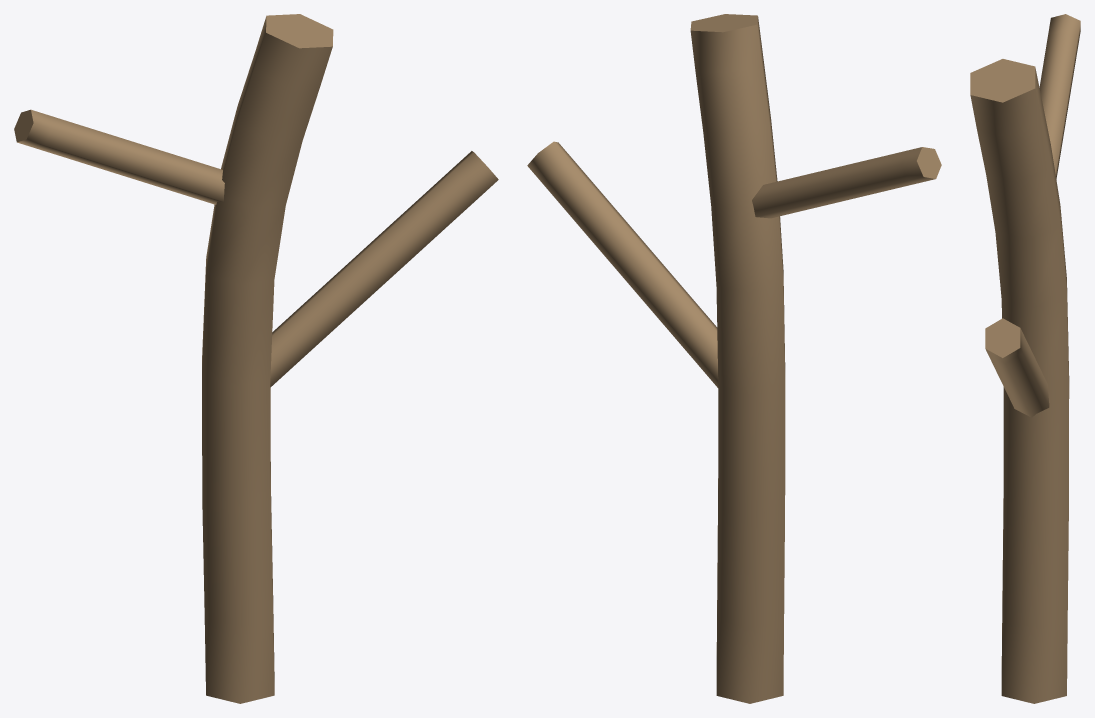
File: zoo-and-safari-park-builder-perch-tree-trunk-bcca3c42__21476.glb
3 renders of one model, left to right at view 1: azimuth 30°, elevation 25°; view 2: azimuth 150°, elevation 25°; view 3: azimuth 270°, elevation 25°, orthographic. The views are drawn at different scales.
Visible parts, largest first — view 1: perch-tree-trunk; view 2: perch-tree-trunk; view 3: perch-tree-trunk.
Part boxes in pixels (x1,y1,x2,y2): perch-tree-trunk: (14, 14, 498, 703); perch-tree-trunk: (527, 14, 941, 703); perch-tree-trunk: (970, 14, 1080, 703).
Size of the model in its own units: 1.56 by 2.22 by 0.3504.
